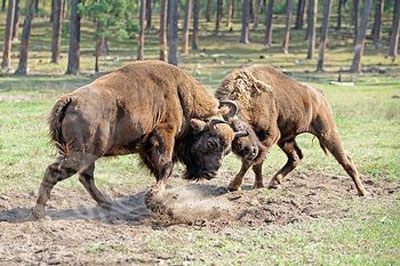zubr: (29, 54, 238, 227), (212, 52, 377, 202)
